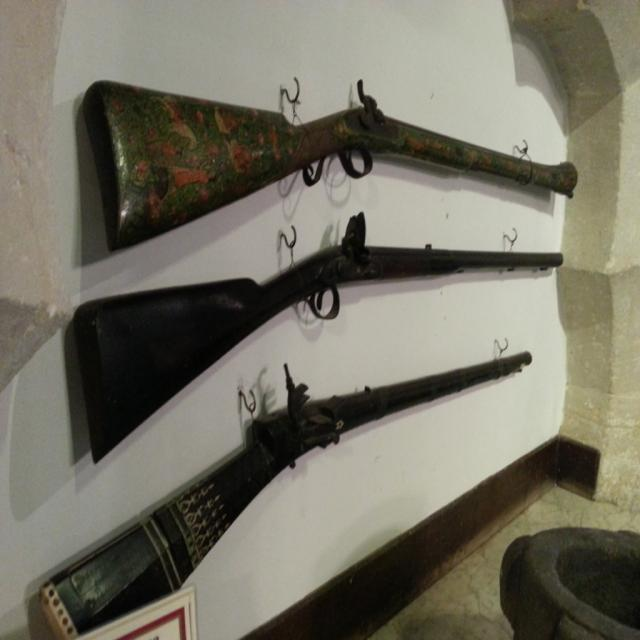weapon: (0, 212, 604, 464), (37, 350, 549, 640), (82, 80, 578, 253)
